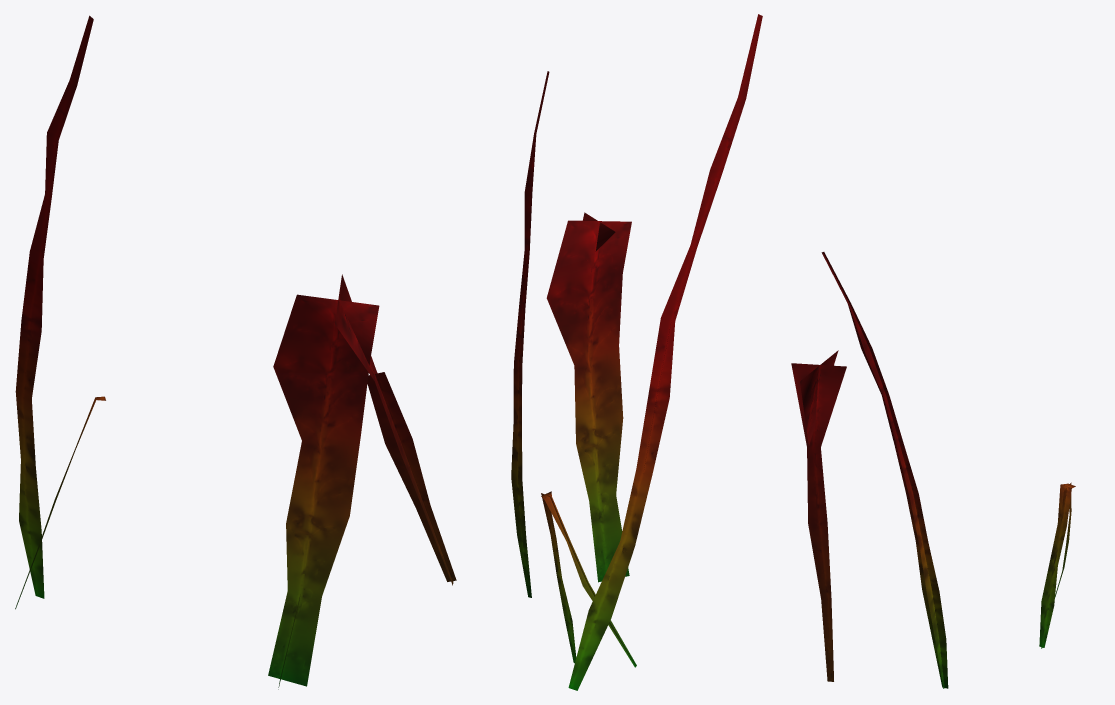
The model's file is White Everlasting_LOD1_Var11_ucvobbbia.glb.
3 views of the same model, side by side, from view 1: azimuth 30°, elevation 25°; view 2: azimuth 150°, elevation 25°; view 3: azimuth 270°, elevation 25° (orthographic). The views are drawn at different scales.
Visible parts, largest first — view 1: _b928_Var11_LOD1; view 2: _b928_Var11_LOD1; view 3: _b928_Var11_LOD1.
Part boxes in pixels (box(x1,y1,x2,y2)): _b928_Var11_LOD1: box(15, 15, 456, 689); _b928_Var11_LOD1: box(511, 14, 762, 690); _b928_Var11_LOD1: box(791, 252, 1075, 688).
Size of the model in its own units: 0.0992 by 0.1961 by 0.0924.
1 material, 1 textured.
